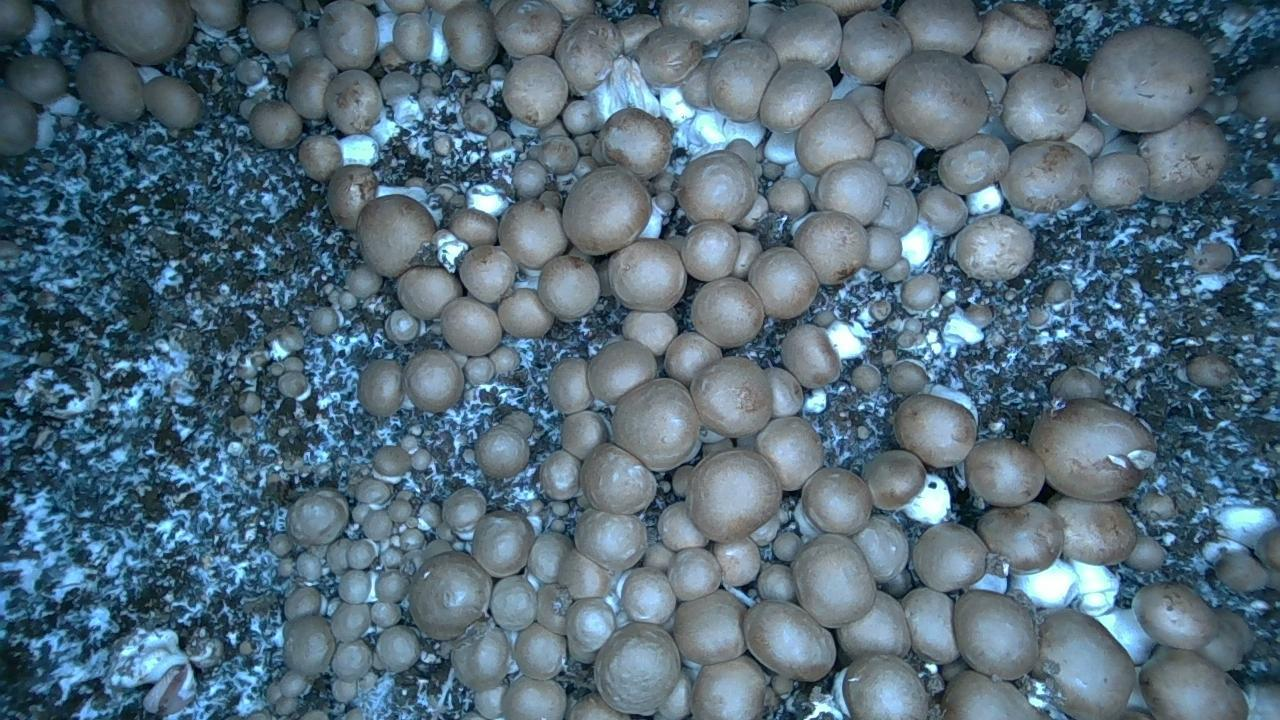BB: (1083, 26, 1213, 132), (1029, 398, 1156, 501), (1033, 609, 1135, 719), (884, 51, 988, 149), (686, 449, 781, 541), (1139, 110, 1229, 201), (612, 378, 699, 470), (1139, 646, 1248, 719), (562, 166, 651, 254), (594, 622, 680, 713), (791, 534, 875, 627), (953, 590, 1038, 680), (744, 601, 835, 681), (409, 551, 491, 639), (85, 0, 193, 64), (690, 356, 772, 438), (356, 194, 436, 277), (1000, 141, 1092, 212), (1002, 63, 1085, 141), (977, 502, 1064, 573), (1048, 494, 1136, 564), (893, 394, 976, 467), (796, 100, 874, 175), (973, 3, 1055, 73), (708, 39, 778, 121), (843, 653, 928, 719), (1132, 583, 1217, 649), (609, 239, 686, 311), (793, 211, 868, 284), (964, 438, 1044, 506), (673, 590, 745, 664), (838, 11, 911, 83), (954, 214, 1033, 280), (599, 107, 671, 179), (912, 522, 987, 591), (691, 277, 764, 347), (764, 3, 841, 69), (748, 247, 818, 318), (756, 416, 823, 490), (941, 670, 1041, 719), (498, 200, 567, 269), (814, 159, 887, 224), (691, 656, 766, 719), (76, 52, 144, 121), (502, 55, 568, 126), (802, 468, 872, 534), (897, 0, 981, 55), (574, 509, 647, 571), (587, 340, 656, 404), (938, 134, 1009, 194), (472, 511, 535, 577), (537, 255, 599, 321), (318, 0, 376, 70), (635, 26, 702, 86), (494, 0, 562, 57), (660, 0, 748, 44), (781, 324, 841, 388), (442, 2, 497, 71), (403, 350, 464, 412), (862, 450, 925, 510), (852, 515, 908, 582), (324, 70, 382, 134), (441, 297, 502, 355), (1088, 152, 1148, 208), (459, 245, 516, 303), (143, 76, 203, 128), (6, 55, 67, 104), (668, 548, 721, 600), (502, 677, 565, 719), (498, 289, 553, 337), (249, 101, 302, 148)
